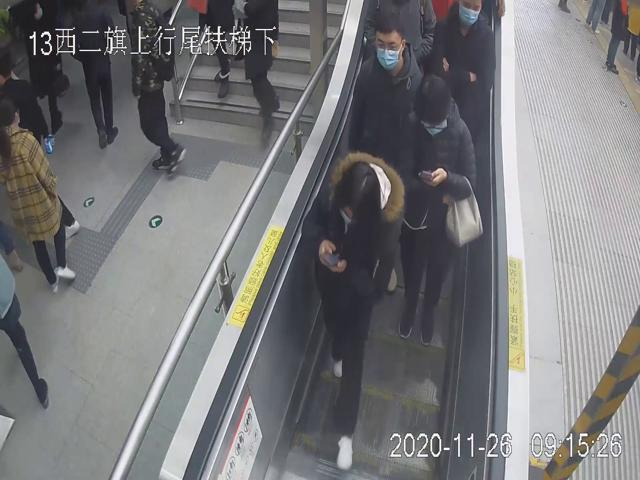person: (301, 148, 401, 473), (390, 71, 482, 348), (348, 19, 424, 165)
